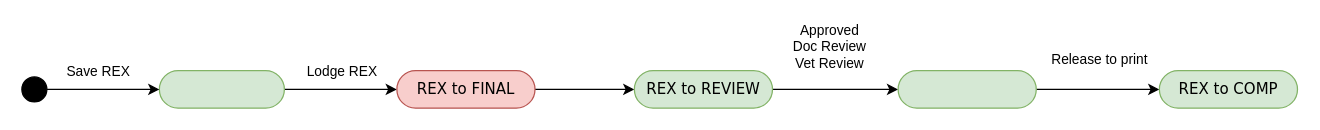
This 1320x130 diagram has some shape labels left out. Each missing label, with the box of its shape:
REX to CTRD: (897, 69, 1036, 108)
REX to INIT: (158, 69, 284, 108)
